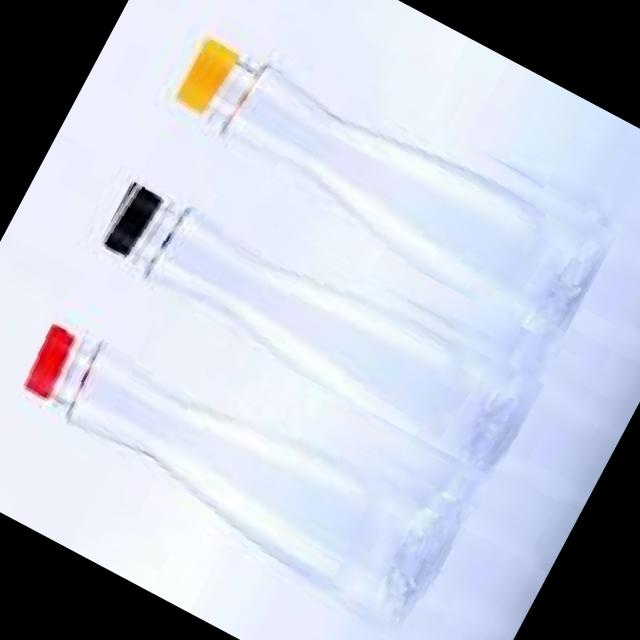plastic bottle: (0, 272, 480, 640), (158, 0, 631, 345), (84, 145, 556, 478)
